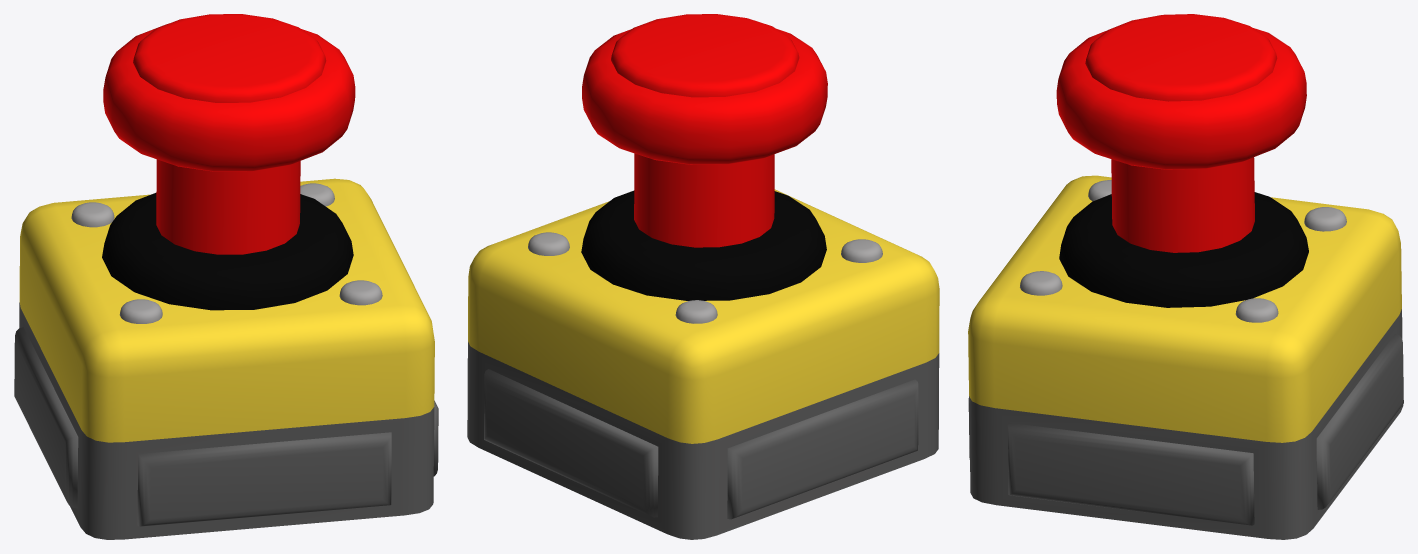
File: button.glb
3 renders of one model, left to right at view 1: azimuth 30°, elevation 25°; view 2: azimuth 150°, elevation 25°; view 3: azimuth 270°, elevation 25°, orthographic. The views are drawn at different scales.
Parts seen in each view (by area): view 1: Base Yellow, Base Grey, Top Button, Black Cylinder, Button Shaft, Screw1, Screw3, Screw2, Screw4; view 2: Base Yellow, Base Grey, Top Button, Black Cylinder, Button Shaft, Screw3, Screw2, Screw4; view 3: Base Yellow, Base Grey, Top Button, Black Cylinder, Button Shaft, Screw1, Screw3, Screw4.
Boxes of the visible parts, <box> form: Base Yellow: <box>19,178,434,442</box>; Base Grey: <box>14,302,438,539</box>; Top Button: <box>103,14,355,171</box>; Black Cylinder: <box>102,193,353,310</box>; Button Shaft: <box>156,159,300,254</box>; Screw1: <box>339,280,382,305</box>; Screw3: <box>71,202,114,227</box>; Screw2: <box>119,299,162,323</box>; Screw4: <box>300,183,334,206</box>; Base Yellow: <box>468,189,939,443</box>; Base Grey: <box>467,342,939,539</box>; Top Button: <box>582,14,827,164</box>; Black Cylinder: <box>581,190,826,300</box>; Button Shaft: <box>634,153,774,247</box>; Screw3: <box>675,300,717,323</box>; Screw2: <box>841,239,882,262</box>; Screw4: <box>528,232,569,255</box>; Base Yellow: <box>968,175,1401,442</box>; Base Grey: <box>968,309,1403,539</box>; Top Button: <box>1056,14,1306,169</box>; Black Cylinder: <box>1059,192,1308,307</box>; Button Shaft: <box>1111,157,1254,252</box>; Screw1: <box>1020,271,1062,295</box>; Screw3: <box>1304,207,1346,231</box>; Screw4: <box>1235,298,1278,322</box>.
Bounding box in the file's own units: 0.6079 × 0.622 × 0.6097.
